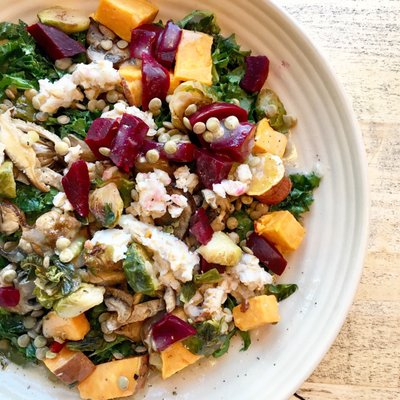curry: (0, 19, 60, 104), (270, 169, 323, 215), (122, 243, 160, 295)
sushi: (0, 0, 387, 399)
